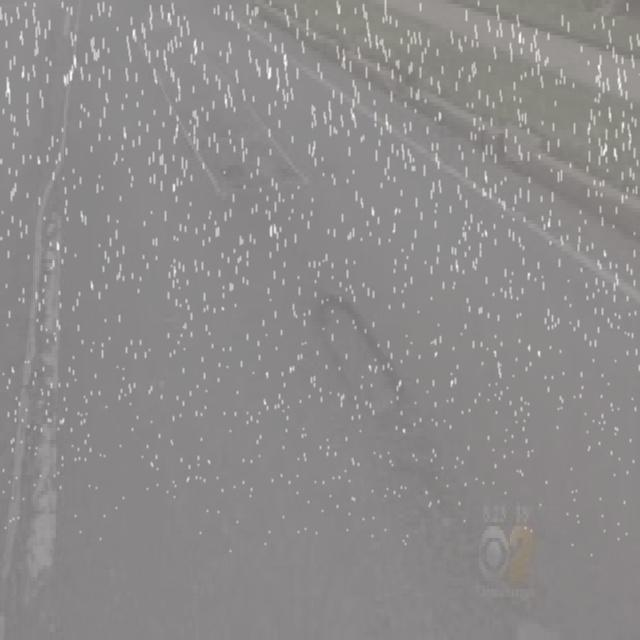Pothole: (292, 279, 430, 436), (186, 119, 298, 207)
